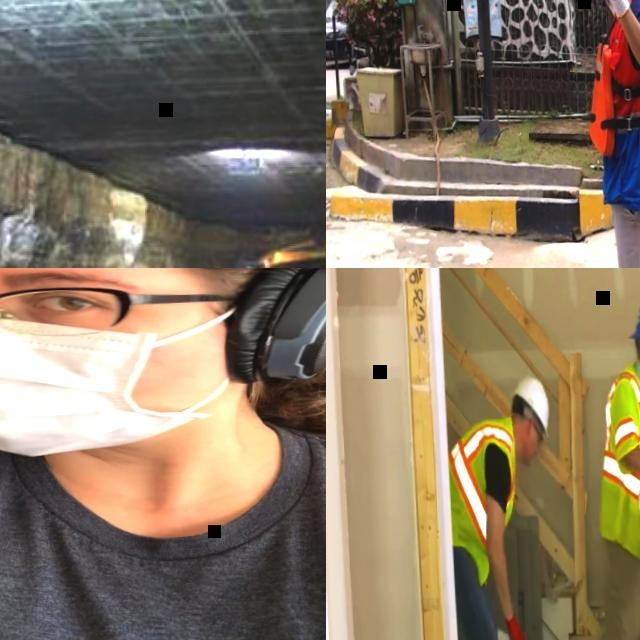Hardhat: (509, 373, 548, 439), (626, 293, 640, 341)
Mask: (0, 301, 257, 462)
NO-Mask: (516, 422, 533, 465)
NO-Safety Vest: (0, 432, 326, 640)
Person: (0, 268, 326, 640), (443, 370, 562, 640), (554, 291, 640, 640), (582, 0, 640, 268)
Safety Vest: (445, 414, 517, 580), (578, 1, 640, 158), (591, 364, 640, 534)
machinery: (185, 229, 326, 268)
vehicle: (326, 0, 365, 68)
